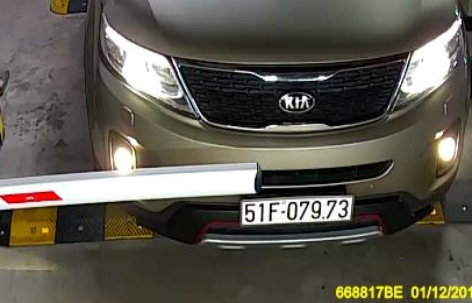plate: (239, 196, 354, 228)
